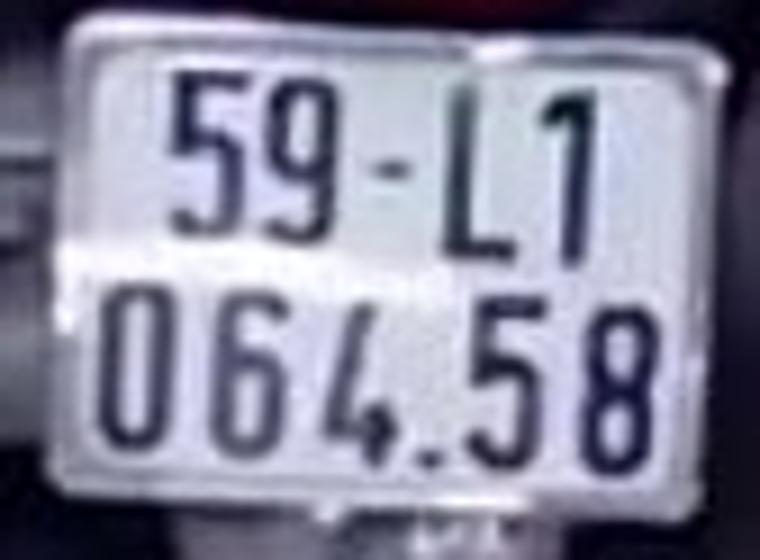-: (358, 155, 417, 182)
.: (410, 445, 444, 477)
0: (91, 274, 177, 456)
1: (535, 89, 597, 275)
4: (323, 302, 396, 472)
5: (463, 293, 546, 471), (163, 68, 243, 245)
6: (198, 287, 293, 472)
8: (578, 305, 657, 481)
9: (260, 78, 341, 247)
L: (440, 82, 517, 271)
